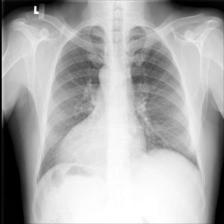normal: (35, 20, 201, 187)
